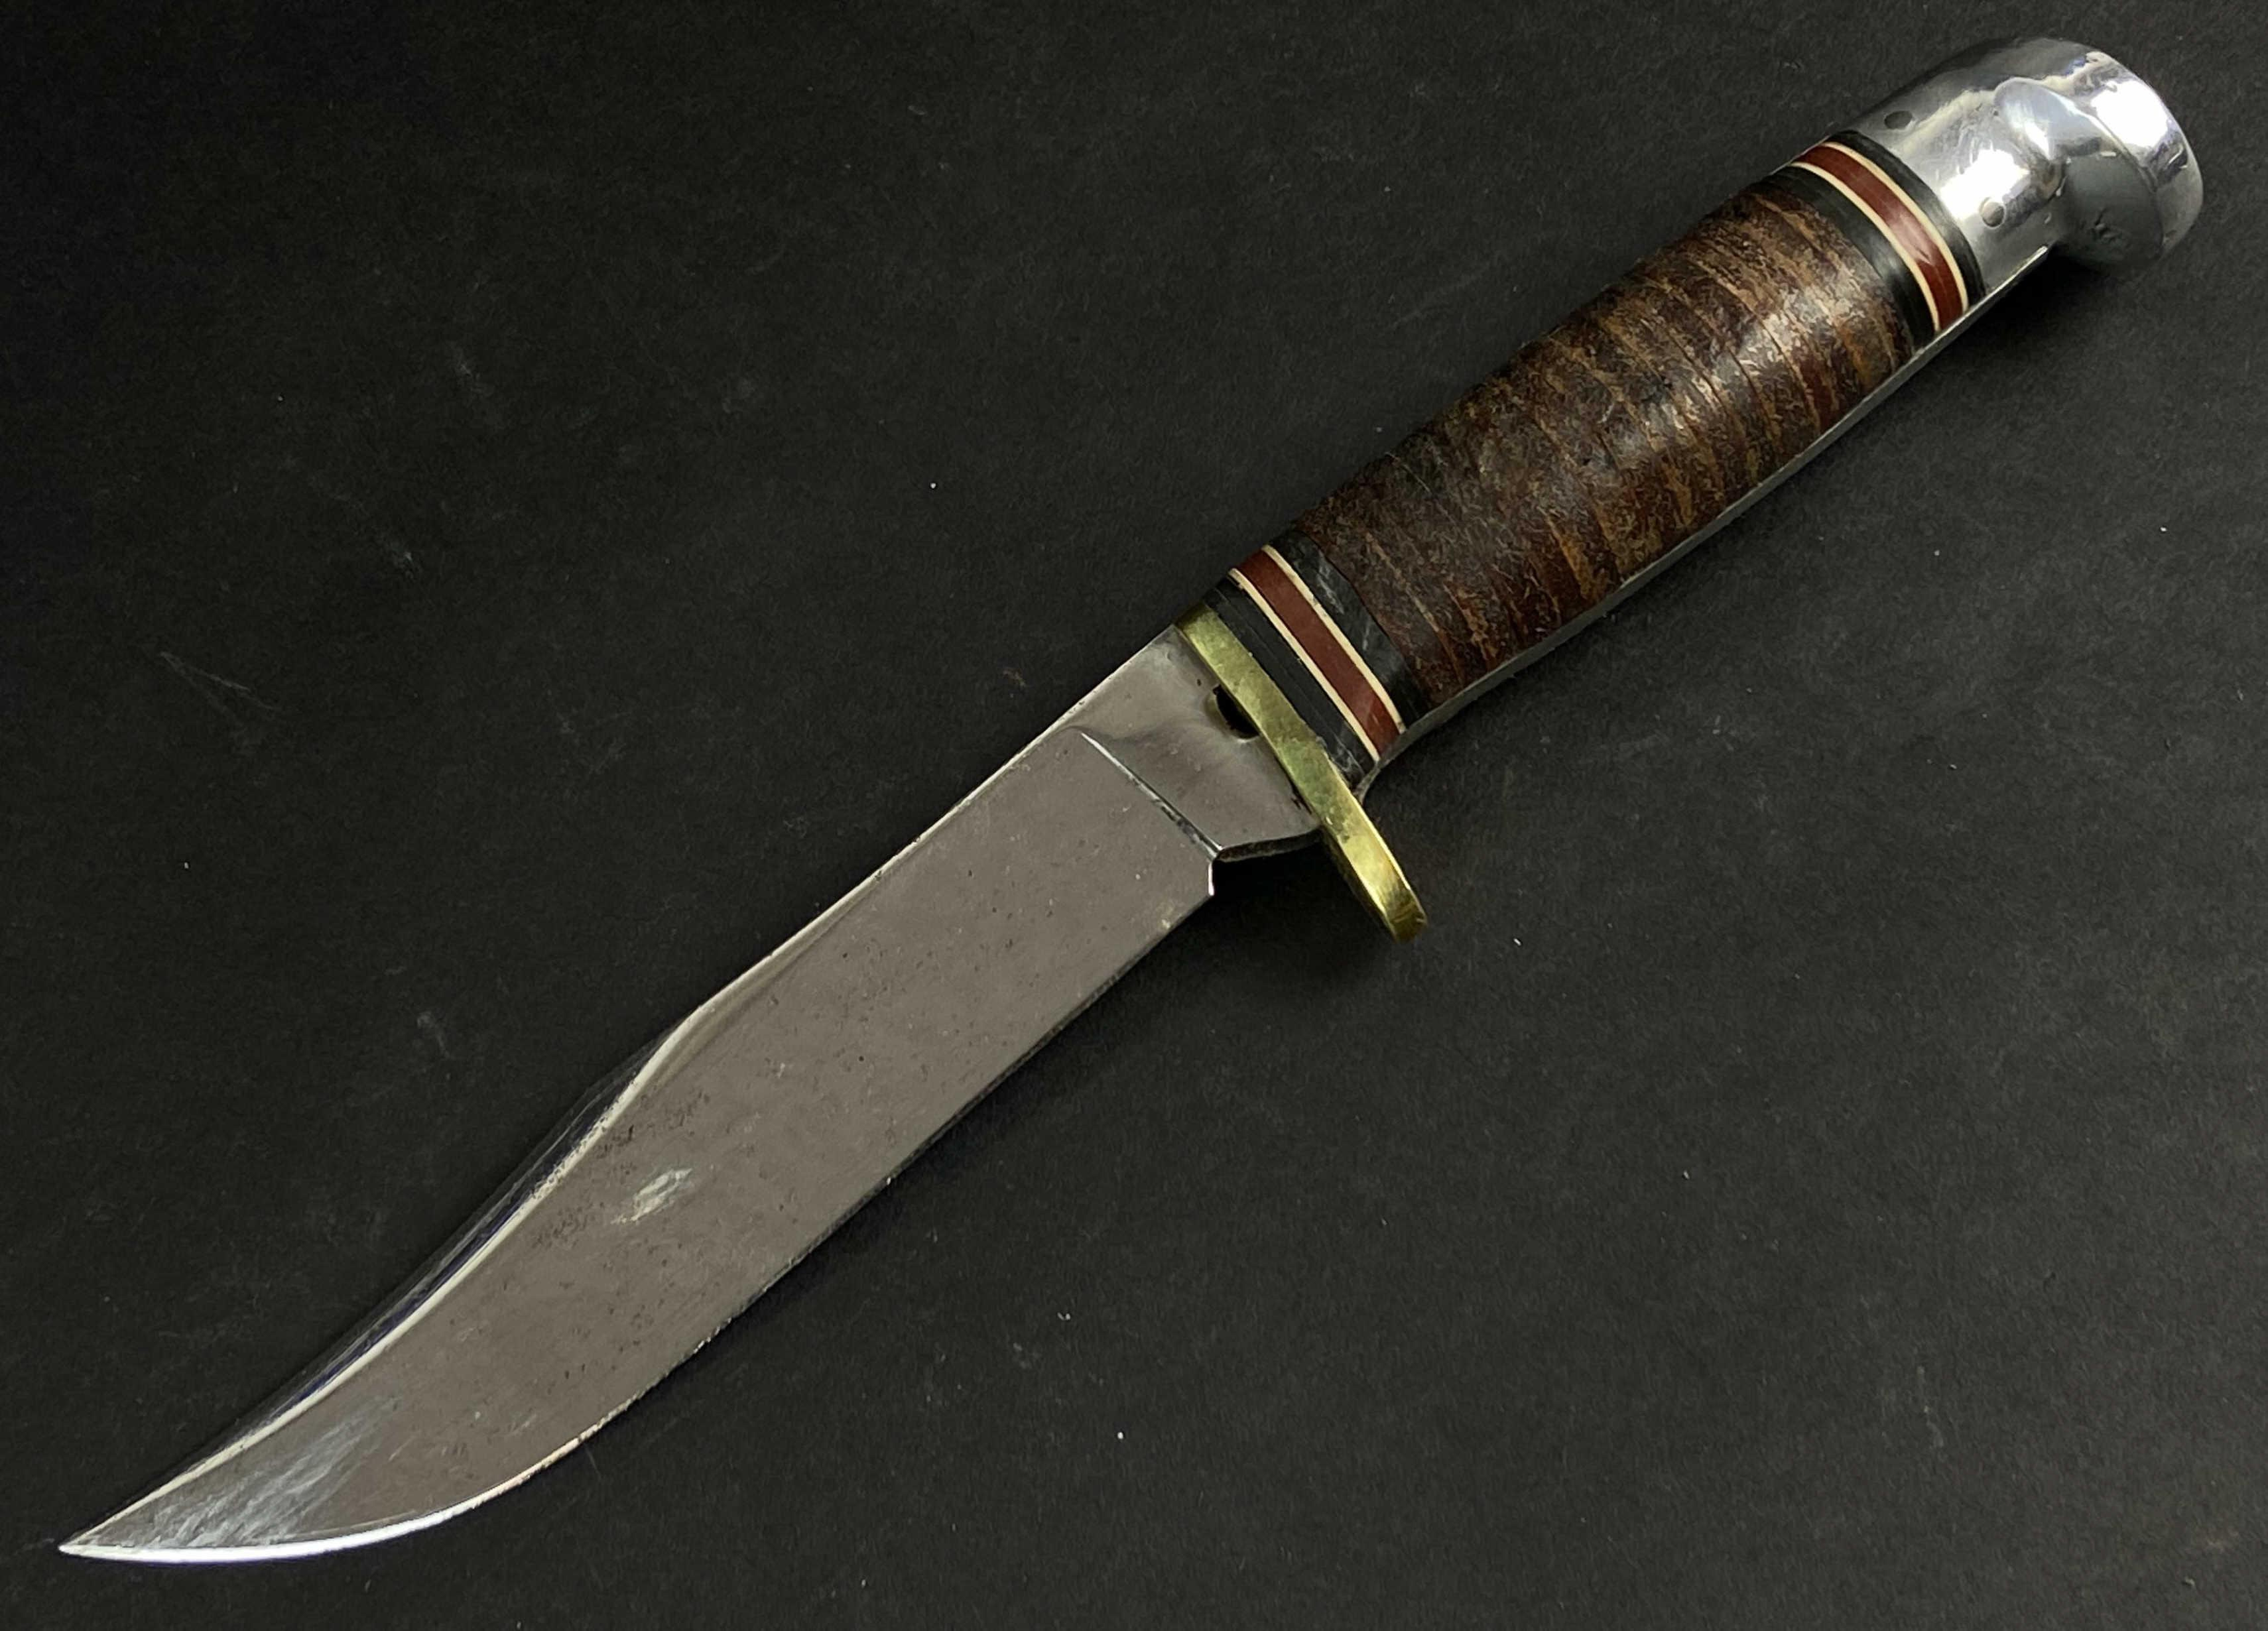faca: (67, 37, 2203, 1562)
